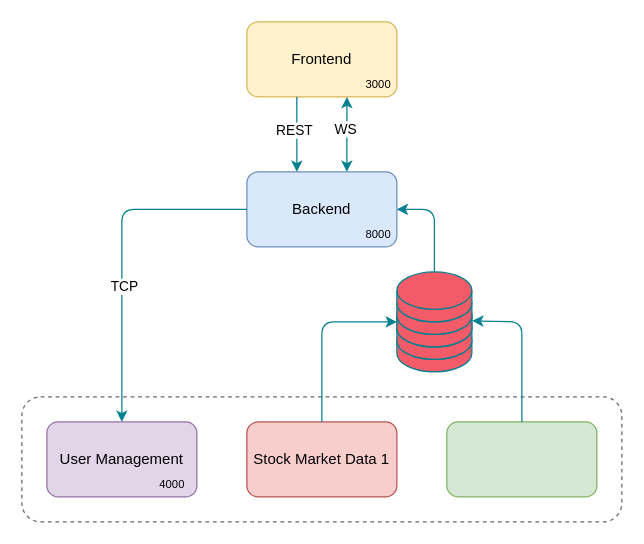
Some shapes in this 644 by 544 pixel diagram are drawn without their labels. Each missing label, with the centre of its shape:
RabbitMQ: pixel 434 296
Stock Market Data 2: pixel 521 459
